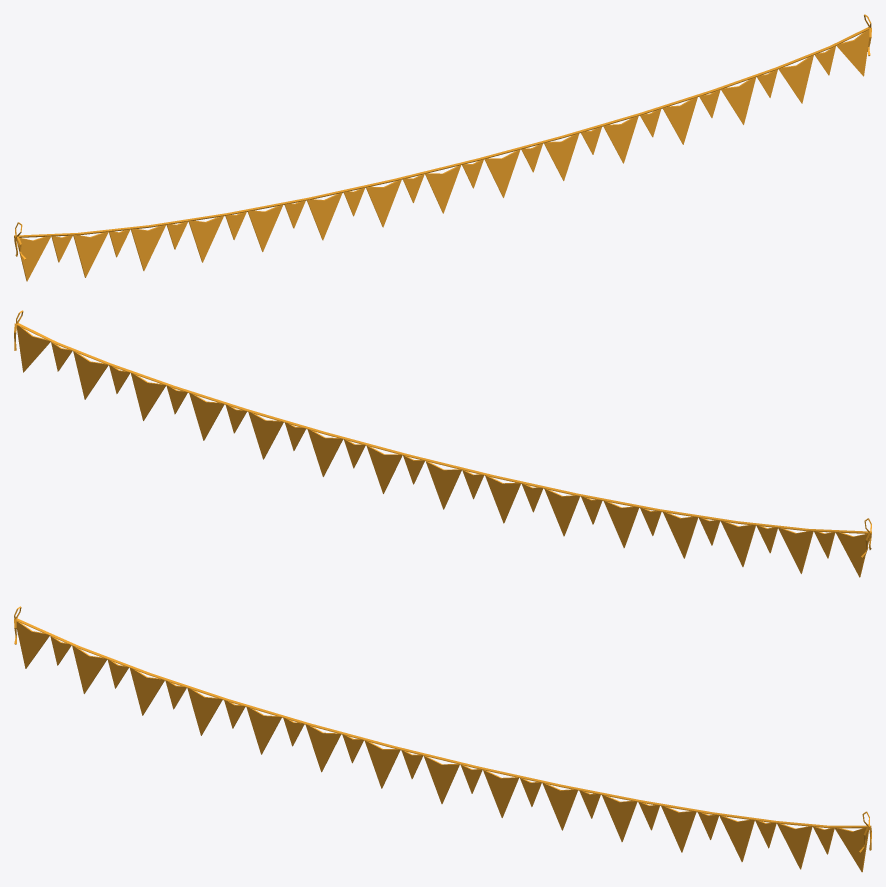
The model's file is SM_Garland_Triangles_5m_4july.fbx.
3 renders of one model, top to bottom at view 1: azimuth 30°, elevation 25°; view 2: azimuth 150°, elevation 25°; view 3: azimuth 330°, elevation 25°, orthographic.
Visible parts, largest first — view 1: garland-triangles-5m-4july; view 2: garland-triangles-5m-4july; view 3: garland-triangles-5m-4july.
Boxes of the visible parts, x1,y1,x2,y2 form: garland-triangles-5m-4july: (14,14,871,281); garland-triangles-5m-4july: (14,310,871,577); garland-triangles-5m-4july: (14,606,871,872).
Size of the model in its own units: 5 by 0.5295 by 0.092.
